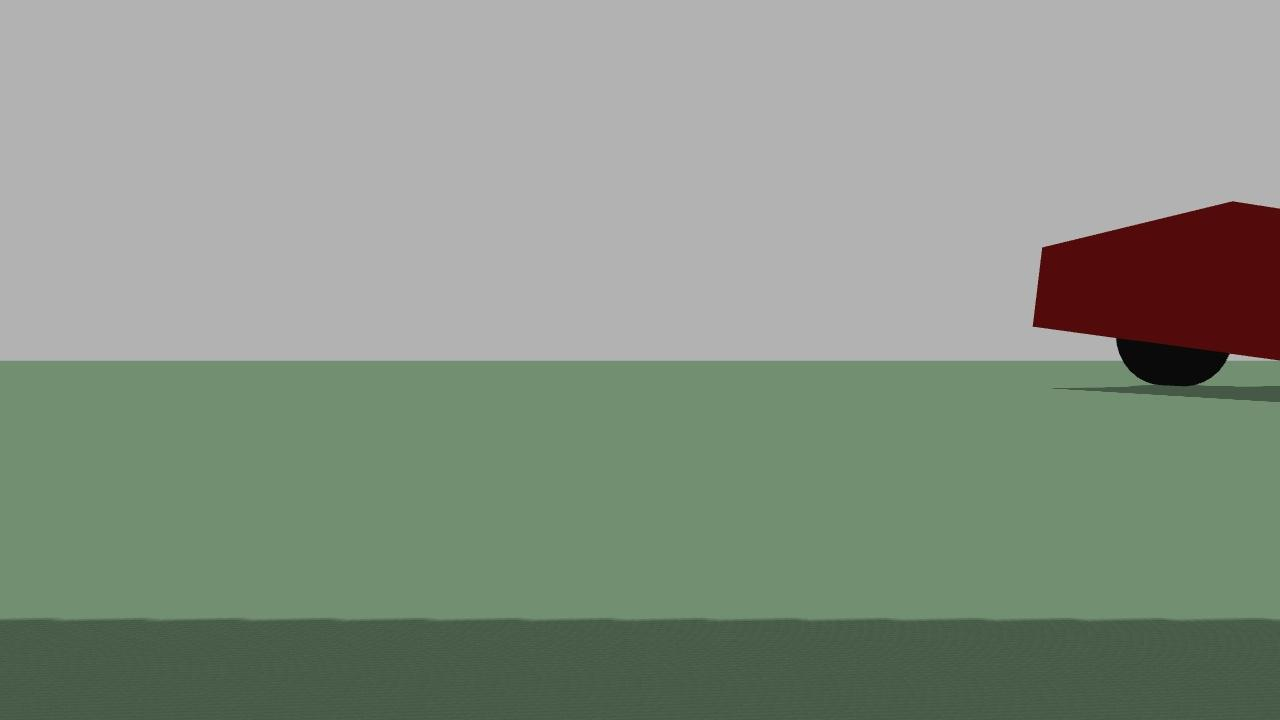ground_vehicle: (1028, 185, 1280, 429)
